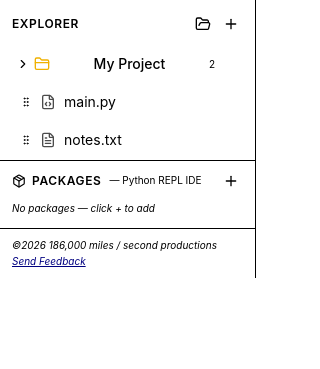
Scenario: ExplorerPane › collapses expanded project
The image size is (320, 369).
Click the button "My Project".
click(110, 64)  # box [16,54,205,74]
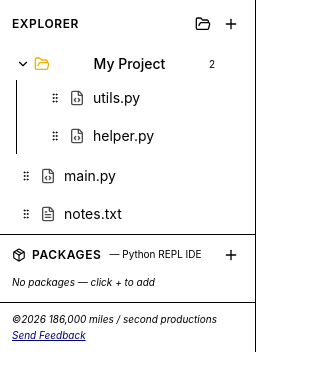
Check: the text "utils.py" is shown, box [93,89,140,106]
Click the button "My Project".
click(110, 64)  # box [16,54,205,74]
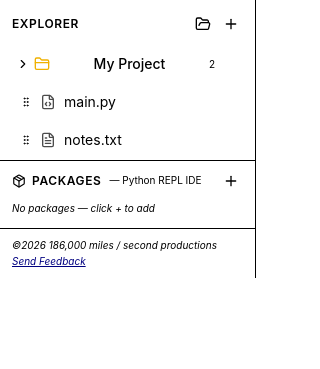
Check: the text "utils.py" is gone
